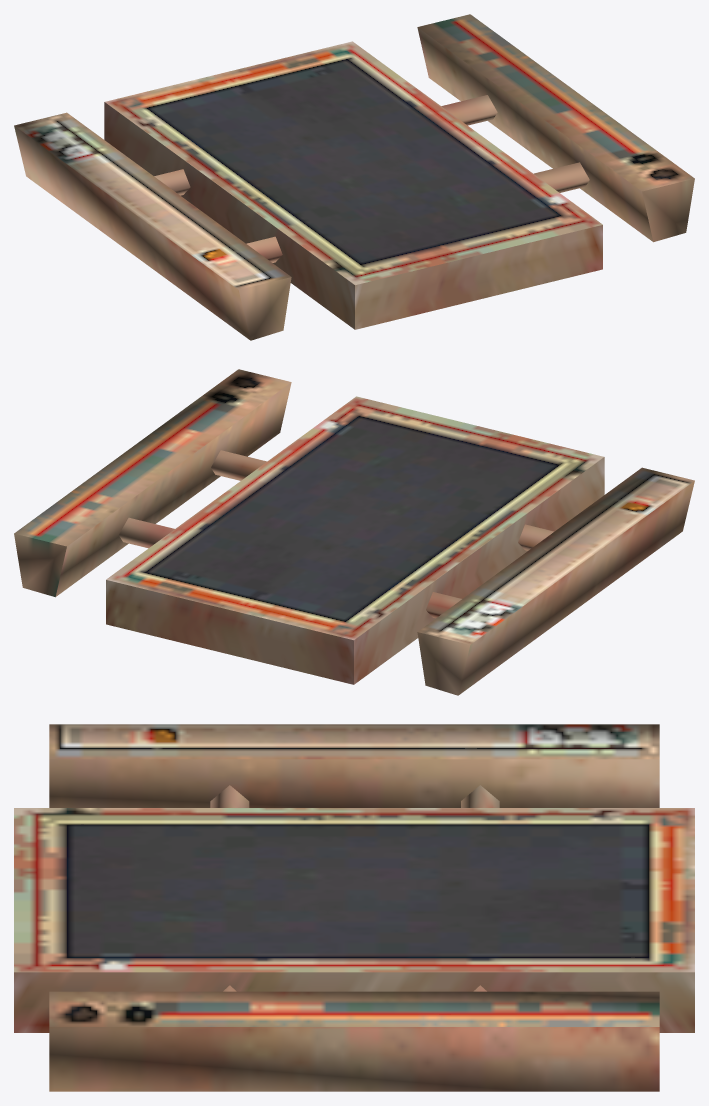
Rendered from eqp_tool_handheld_viewscreen_s1_l1.fbx.
3 views of the same model, one above another, from view 1: azimuth 30°, elevation 25°; view 2: azimuth 150°, elevation 25°; view 3: azimuth 270°, elevation 25° (orthographic). The views are drawn at different scales.
Parts seen in each view (by area): view 1: mesh_node; view 2: mesh_node; view 3: mesh_node.
Boxes of the visible parts, x1,y1,x2,y2 form: mesh_node: [14, 14, 694, 340]; mesh_node: [14, 369, 694, 695]; mesh_node: [14, 724, 694, 1091].
Bounding box in the file's own units: 0.2371 × 0.0277 × 0.2254.
